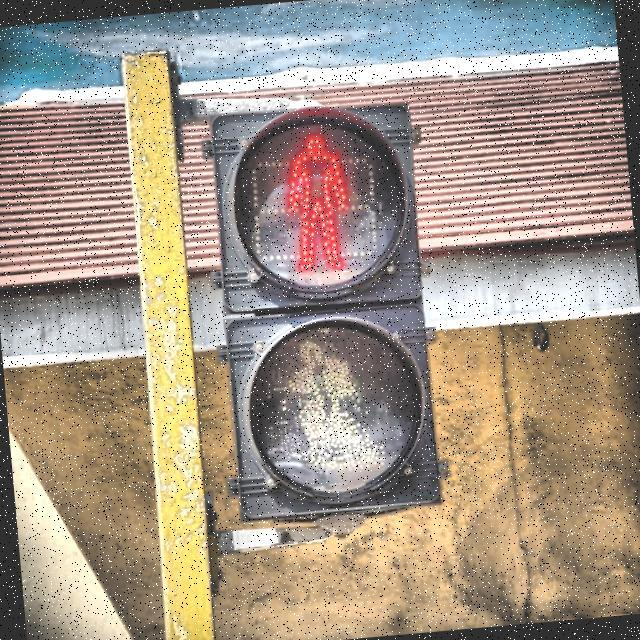red_light: (273, 125, 360, 279)
